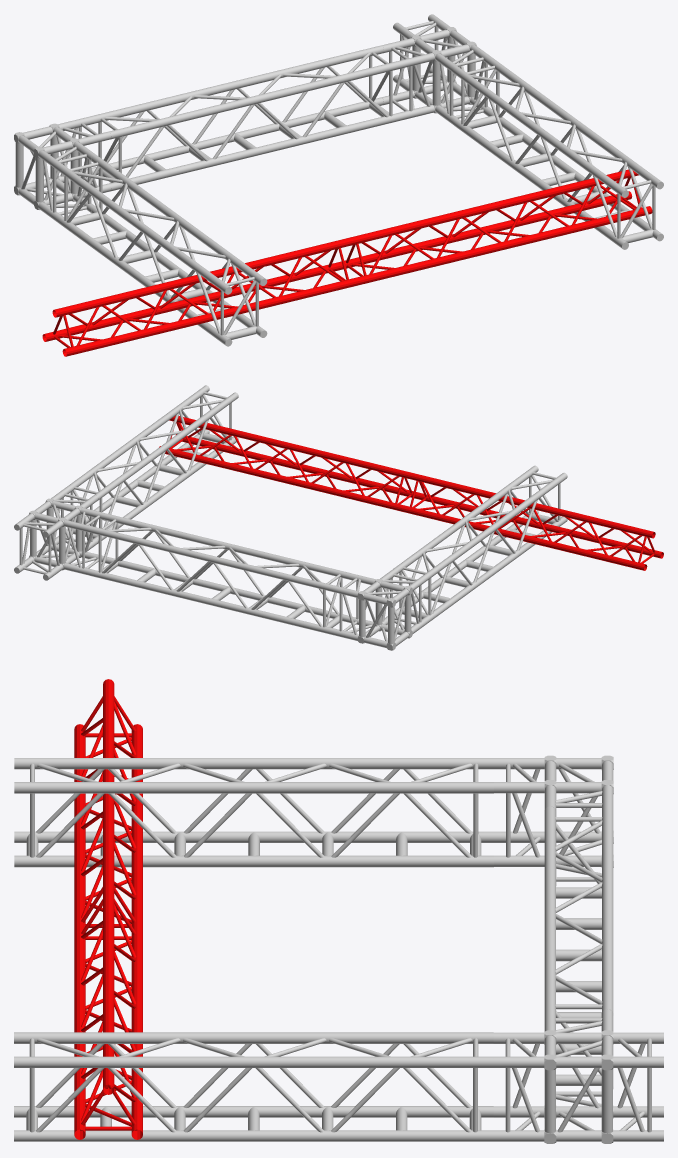
File: Prolyte_H40R-b0244d2b.glb
The picture shows the model from 3 angles, top to bottom: view 1: azimuth 30°, elevation 25°; view 2: azimuth 150°, elevation 25°; view 3: azimuth 270°, elevation 25°; orthographic projection. The views are drawn at different scales.
Parts seen in each view (by area): view 1: Geom3D_ (×12), Geom3D (×2); view 2: Geom3D_ (×12), Geom3D (×2); view 3: Geom3D_ (×12), Geom3D (×2).
Part boxes in pixels (x1,y1,x2,y2): Geom3D_ (×12): (56,45,663,346); Geom3D (×2): (42,169,652,356); Geom3D_ (×12): (65,385,567,634); Geom3D (×2): (159,415,663,570); Geom3D_ (×12): (14,758,613,1141); Geom3D (×2): (74,679,142,1139).
Bounding box in the file's own units: 4 × 0.388 × 2.71.
